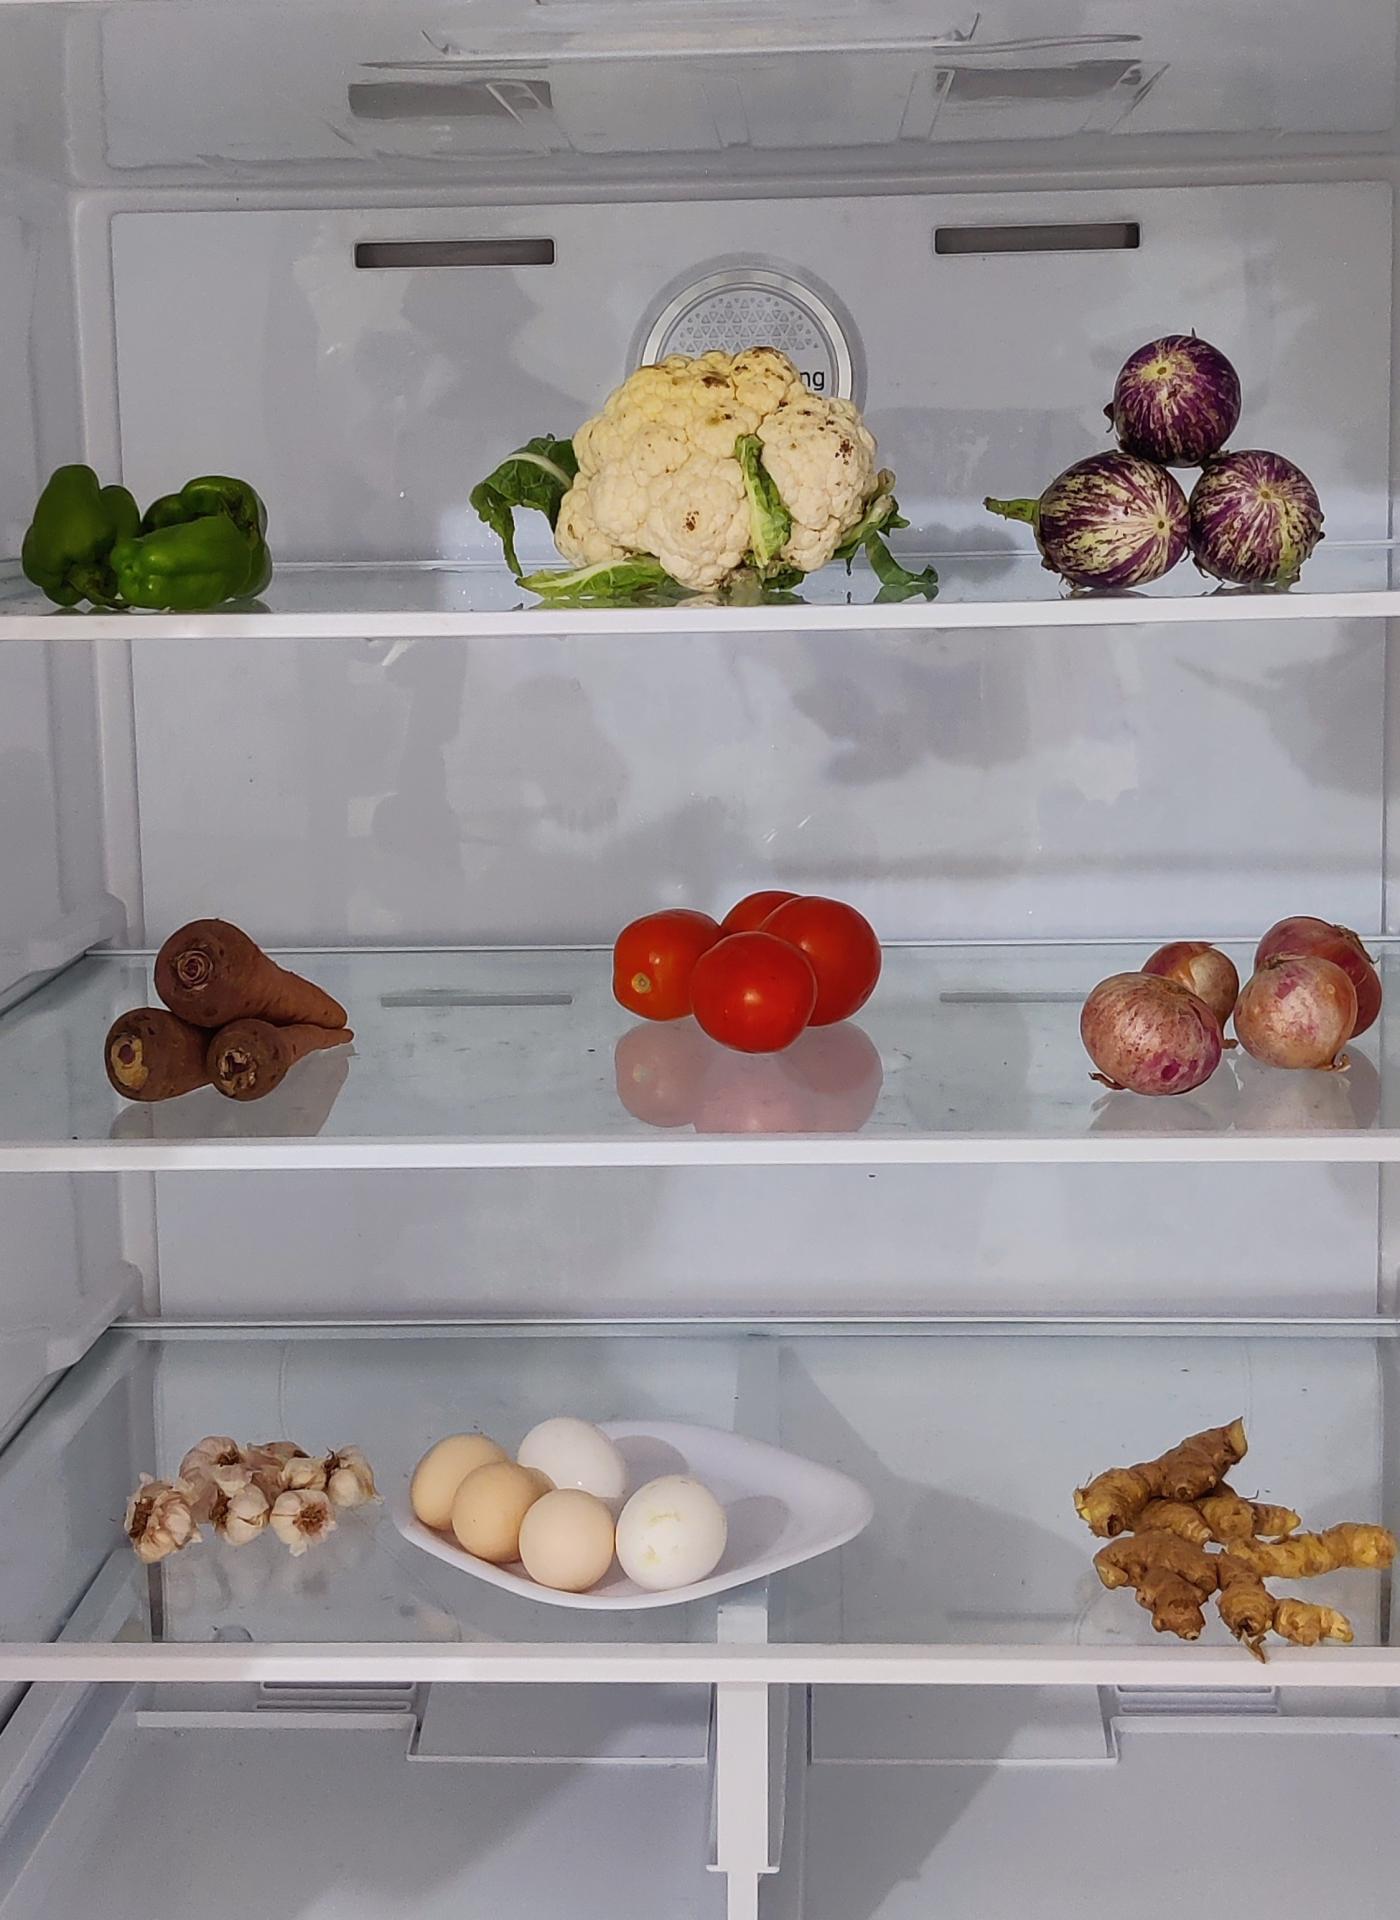brinjal: (1018, 323, 1336, 595)
capsicum: (19, 465, 279, 617)
carrots: (101, 914, 352, 1108)
cauliflower: (550, 341, 905, 589)
egg: (416, 1395, 741, 1583)
garlic: (112, 1430, 379, 1552)
ginger: (1078, 1425, 1394, 1658)
onion: (1079, 917, 1385, 1097)
tomato: (614, 890, 889, 1054)
